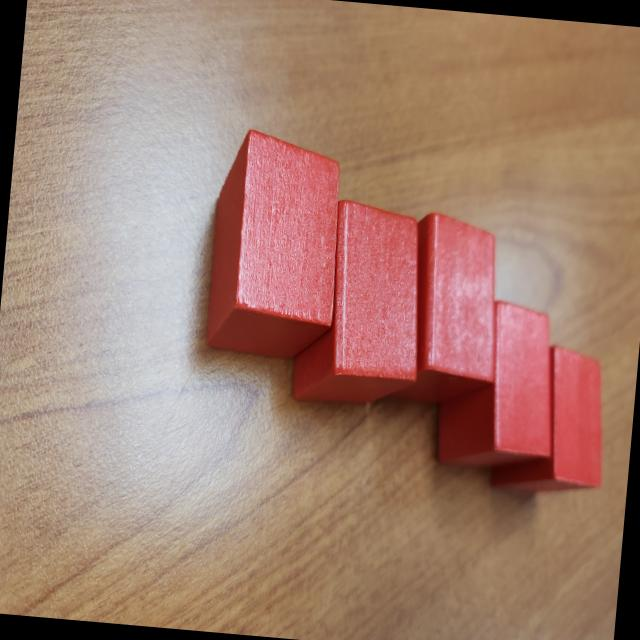red: (204, 126, 348, 365), (288, 196, 432, 412), (376, 208, 509, 410), (432, 294, 566, 475), (488, 338, 614, 500)
